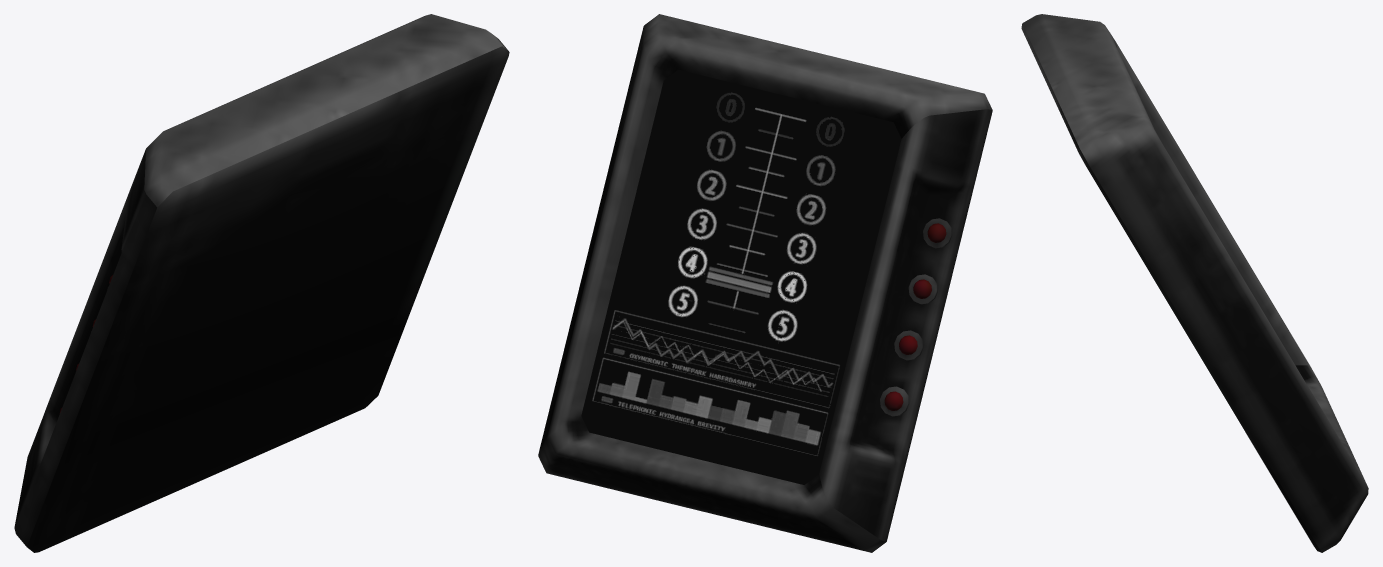
Rendered from ScreenLeft.fbx.
3 renders of one model, left to right at view 1: azimuth 30°, elevation 25°; view 2: azimuth 150°, elevation 25°; view 3: azimuth 270°, elevation 25°, orthographic. The views are drawn at different scales.
Parts seen in each view (by area): view 1: monitors_displ_0.001; view 2: monitors_displ_0.001; view 3: monitors_displ_0.001.
Part boxes in pixels (left/top/right/bottom): monitors_displ_0.001: left=14, top=14, right=509, bottom=552; monitors_displ_0.001: left=538, top=14, right=992, bottom=552; monitors_displ_0.001: left=1021, top=14, right=1368, bottom=552.
Size of the model in its own units: 13.61 by 16.89 by 12.
